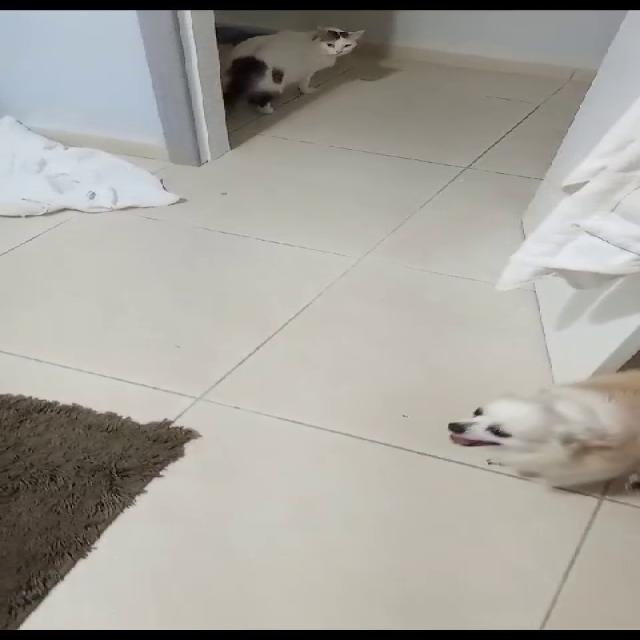Simba: (224, 18, 372, 128)
Theo: (452, 366, 639, 517)
